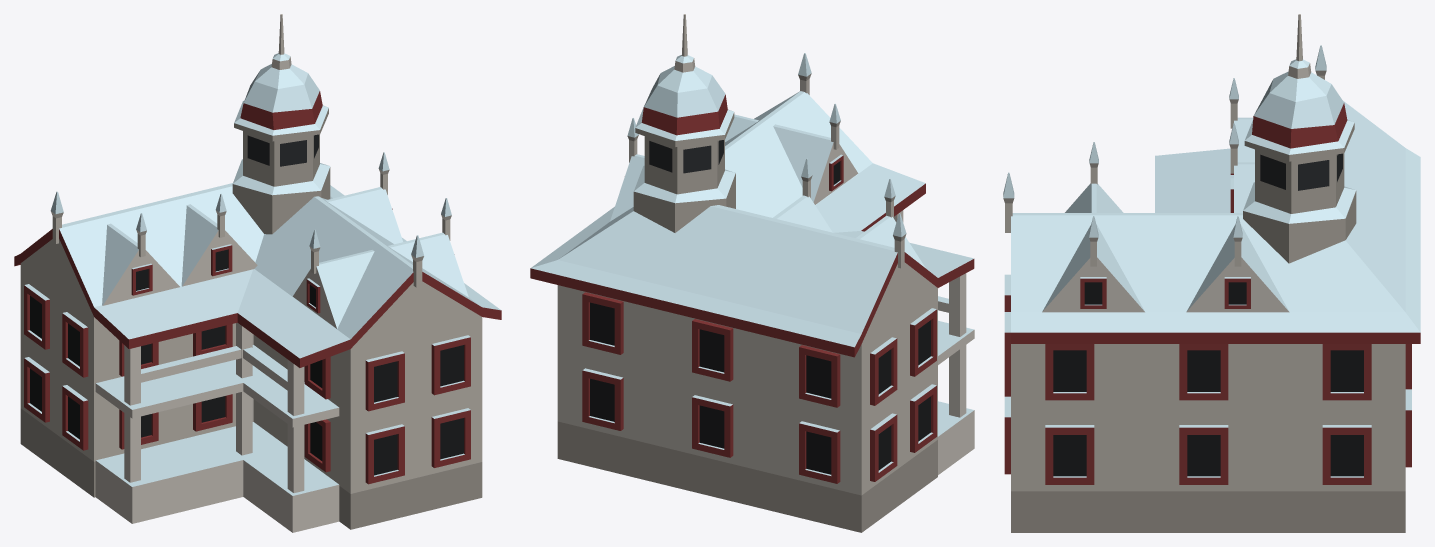
File: SM_Bld_Pirate_Mansion_01_Snow.fbx
3 renders of one model, left to right at view 1: azimuth 30°, elevation 25°; view 2: azimuth 150°, elevation 25°; view 3: azimuth 270°, elevation 25°, orthographic. The views are drawn at different scales.
Parts seen in each view (by area): view 1: SM_Bld_Pirate_Mansion_01_Snow; view 2: SM_Bld_Pirate_Mansion_01_Snow; view 3: SM_Bld_Pirate_Mansion_01_Snow.
Boxes of the visible parts, x1,y1,x2,y2 form: SM_Bld_Pirate_Mansion_01_Snow: (14, 14, 501, 532); SM_Bld_Pirate_Mansion_01_Snow: (530, 14, 974, 532); SM_Bld_Pirate_Mansion_01_Snow: (1003, 14, 1420, 532).
Bounding box in the file's own units: 158 × 196 × 156.
Materials: 1 (1 with a texture image).
